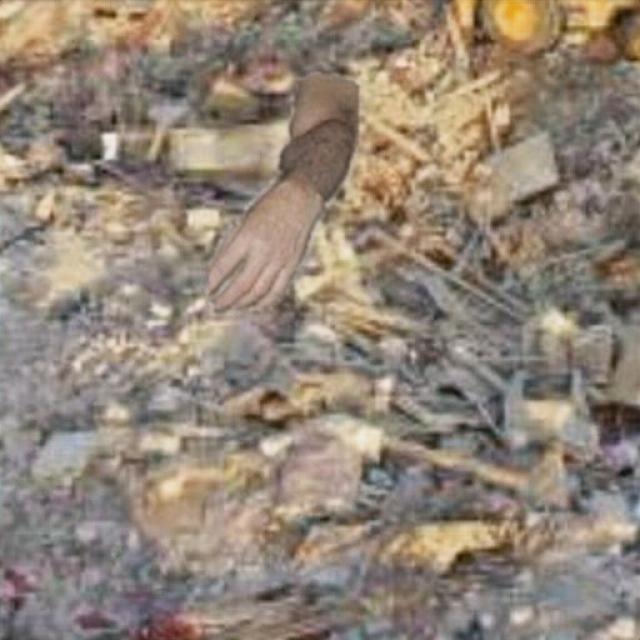Person in Rubble: (208, 70, 358, 311)
